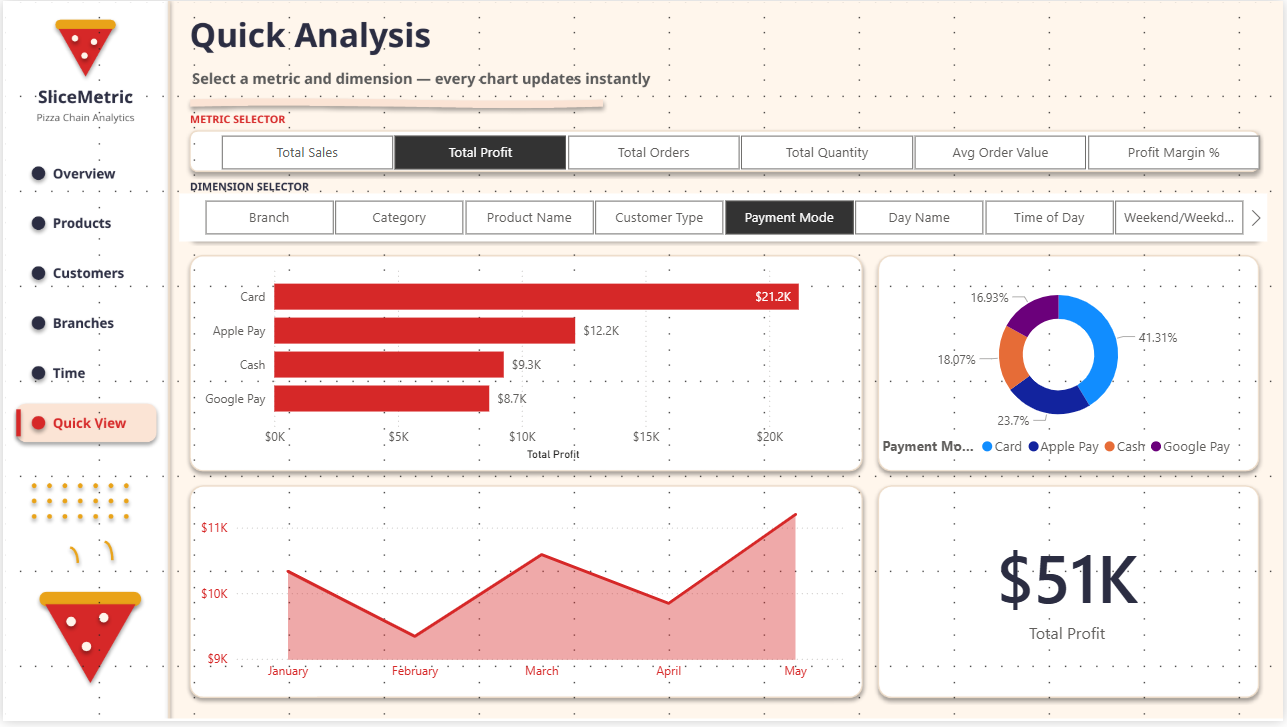

The page's visual inventory and layout, read from the dashboard file:
{"tool":"powerbi","page":{"name":"Quick Analysis","canvas":[1280,720],"ordinal":6},"visuals":[{"type":"actionButton","box":[0,160,144,32],"z":0},{"type":"actionButton","box":[16,160,144,32],"z":1000},{"type":"actionButton","box":[16,208,144,32],"z":2000},{"type":"actionButton","box":[16,256,144,32],"z":3000},{"type":"actionButton","box":[0,304,144,32],"z":4000},{"type":"slicer","fields":{"Values":["Metric.Metric"]},"box":[192,128,1088,48],"z":5000},{"type":"slicer","fields":{"Values":["Dimension.Dimension"]},"box":[176,192,1088,48],"z":6000},{"type":"clusteredBarChart","fields":{"Category":["Orders.Payment Mode"],"Y":["_Measures.Total Profit"]},"box":[192,256,656,208],"z":7000},{"type":"donutChart","fields":{"Category":["Orders.Payment Mode"],"Y":["_Measures.Total Profit"]},"box":[864,272,384,192],"z":8000},{"type":"areaChart","fields":{"Y":["_Measures.Total Profit"],"Category":["Date.Month"]},"box":[192,480,656,208],"z":9000},{"type":"cardVisual","fields":{"Data":["_Measures.Total Profit"]},"box":[873,480,384,212],"z":10000},{"type":"actionButton","box":[0,208,144,32],"z":11000},{"type":"actionButton","box":[16,256,144,32],"z":12000},{"type":"actionButton","box":[0,304,144,32],"z":13000},{"type":"actionButton","box":[0,352,144,32],"z":14000}]}

Visuals, with their boxes on the page's 1280x720 design canvas (x1, y1, x2, y2). These are canvas units, not pixel positions in the 1287x727 screenshot, which may show the page scaled, cropped or inside an application window:
actionButton: [0,160,144,192]
actionButton: [16,160,160,192]
actionButton: [16,208,160,240]
actionButton: [16,256,160,288]
actionButton: [0,304,144,336]
slicer - Metric.Metric: [192,128,1280,176]
slicer - Dimension.Dimension: [176,192,1264,240]
clusteredBarChart - Orders.Payment Mode x _Measures.Total Profit: [192,256,848,464]
donutChart - Orders.Payment Mode x _Measures.Total Profit: [864,272,1248,464]
areaChart - _Measures.Total Profit x Date.Month: [192,480,848,688]
cardVisual - _Measures.Total Profit: [873,480,1257,692]
actionButton: [0,208,144,240]
actionButton: [16,256,160,288]
actionButton: [0,304,144,336]
actionButton: [0,352,144,384]
